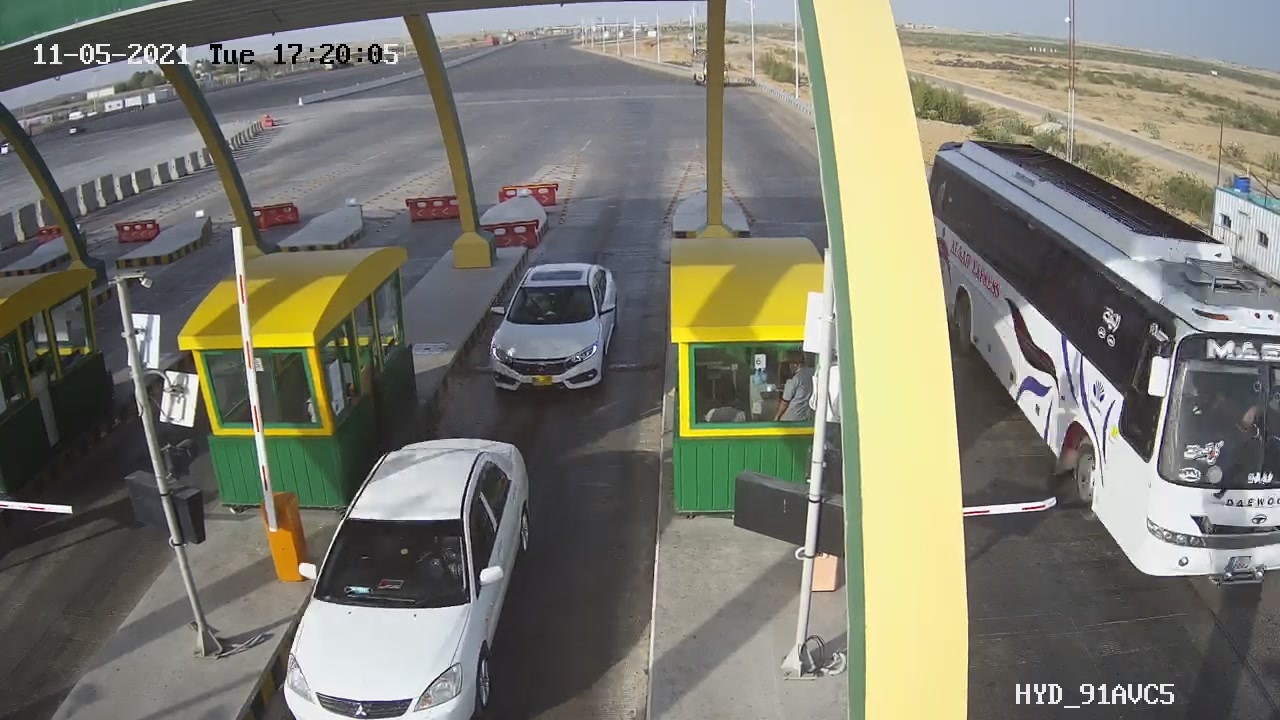F1: (472, 246, 634, 417)
